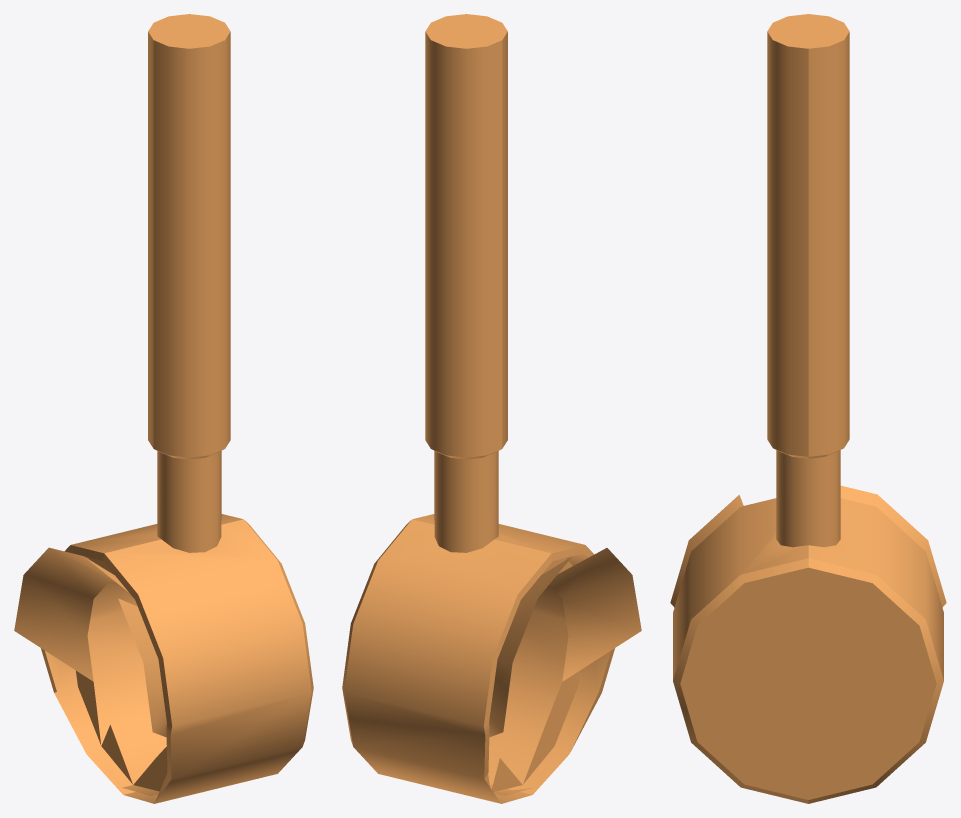
The picture shows the model from 3 angles, left to right: view 1: azimuth 30°, elevation 25°; view 2: azimuth 150°, elevation 25°; view 3: azimuth 270°, elevation 25°; orthographic projection.
Size of the model in its own units: 0.1601 by 0.6882 by 0.231.
